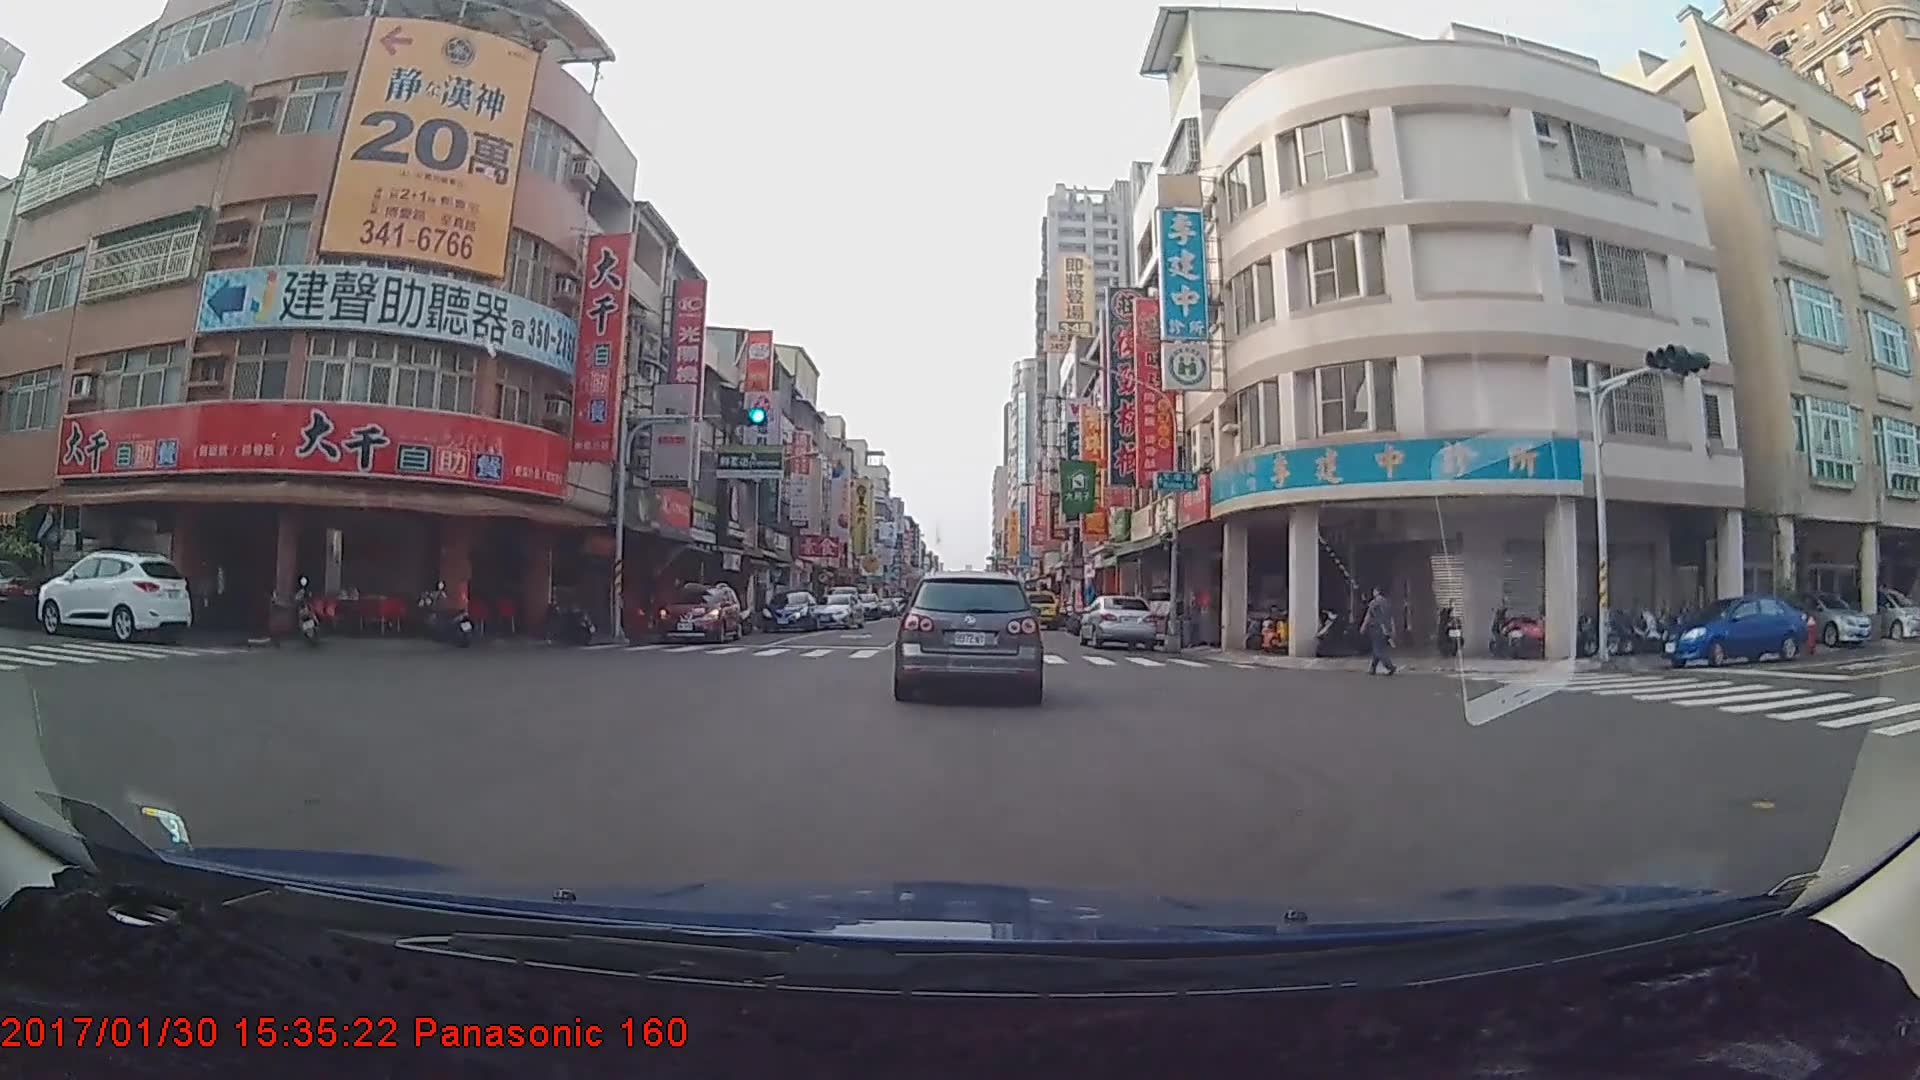pedestrian: (1361, 588, 1399, 681)
vehicle: (894, 571, 1042, 705), (34, 550, 189, 645), (1658, 595, 1809, 671), (1759, 584, 1873, 647), (654, 583, 743, 643), (1826, 584, 1920, 639), (1076, 593, 1157, 652), (0, 558, 45, 626), (758, 588, 819, 633), (807, 591, 864, 628), (1015, 590, 1061, 630)
